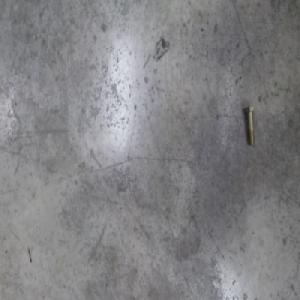Bolt: (244, 104, 255, 146)
